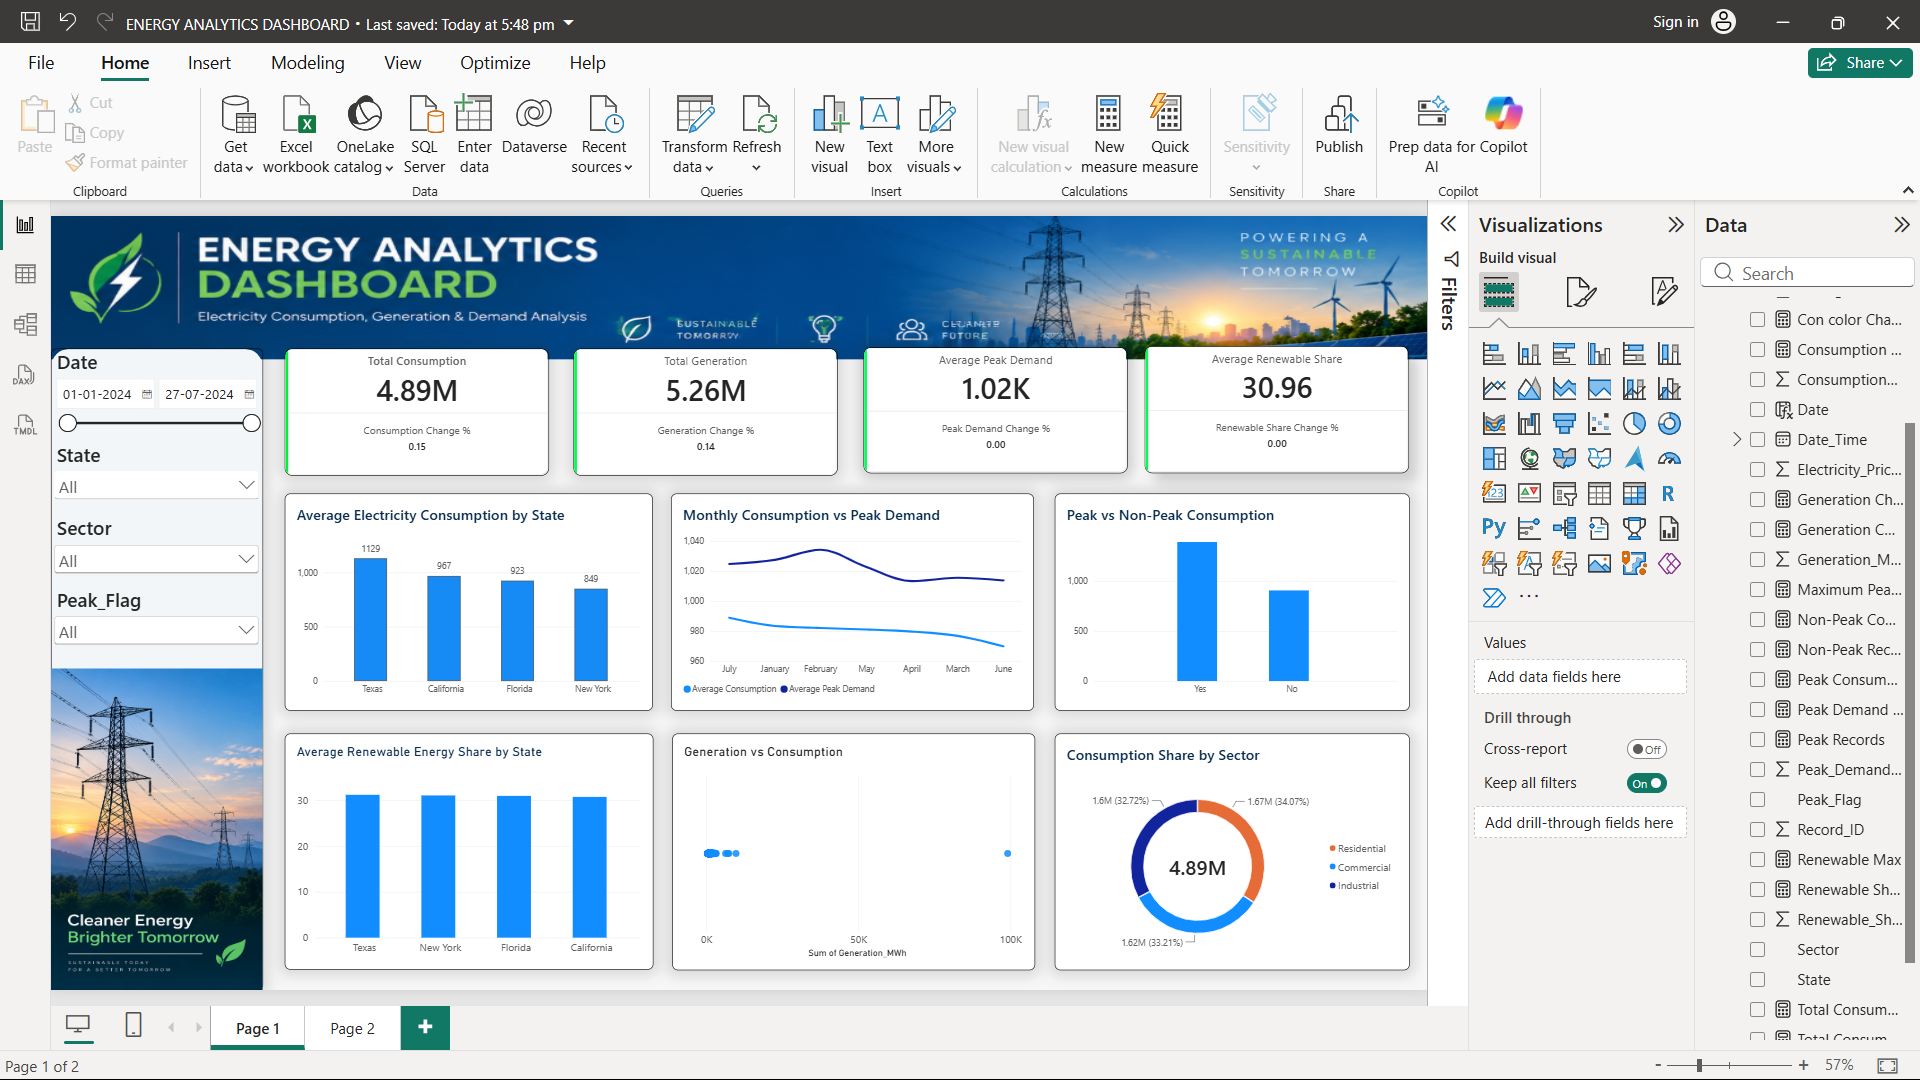

Layout of this report page (visuals, bound fields, positions):
{"tool":"powerbi","page":{"name":"Page 1","canvas":[1920,1080],"ordinal":0},"visuals":[{"type":"image","box":[0,0,1920,199.9],"z":0},{"type":"clusteredColumnChart","title":"Average Electricity Consumption by State","fields":{"Category":["Sheet1.State"],"Y":["Sheet1.Average Consumption"]},"box":[325.8,387.3,513.9,303.5],"z":1000},{"type":"lineChart","title":"Monthly Consumption vs Peak Demand","fields":{"Category":["DateTable.Month"],"Y":["Sheet1.Average Consumption","Sheet1.Average Peak Demand"]},"box":[865.8,387.3,506.4,303.5],"z":2000},{"type":"cardVisual","fields":{"Data":["Sheet1.Total Consumption"]},"box":[325.4,184.4,368.7,177.9],"z":3000},{"type":"cardVisual","fields":{"Data":["Sheet1.Average Renewable Share"]},"box":[1527,182.2,368.7,177.9],"z":4000},{"type":"cardVisual","fields":{"Data":["Sheet1.Average Peak Demand"]},"box":[1133.5,183,368.7,175.7],"z":5000},{"type":"cardVisual","fields":{"Data":["Sheet1.Total Generation"]},"box":[728.8,184.4,368.7,177.9],"z":6000},{"type":"clusteredColumnChart","title":"Peak vs Non-Peak Consumption","fields":{"Category":["Sheet1.Peak_Flag"],"Y":["Sheet1.Average Consumption"]},"box":[1400.2,387.3,495.3,303.5],"z":7000},{"type":"shape","box":[0,184.3,296,895.6],"z":8000},{"type":"image","box":[0,631.2,295,449],"z":9000},{"type":"slicer","fields":{"Values":["Sheet1.Date"]},"box":[0,184.3,296,260.7],"z":10000},{"type":"slicer","fields":{"Values":["Sheet1.State"]},"box":[0,314.5,295.4,100.9],"z":11000},{"type":"slicer","fields":{"Values":["Sheet1.Peak_Flag"]},"box":[0,516.2,295,115],"z":12000},{"type":"clusteredColumnChart","title":"Average Renewable Energy Share by State","fields":{"Category":["Sheet1.State"],"Y":["Sheet1.Average Renewable Share"]},"box":[325.4,722.3,514.1,329.7],"z":13000},{"type":"scatterChart","title":"Generation vs Consumption","fields":{"Category":["Sheet1.Consumption_MWh"],"X":["Sum(Sheet1.Generation_MWh)"]},"box":[866,722,506,330],"z":14000},{"type":"donutChart","title":"Consumption Share by Sector","fields":{"Category":["Sheet1.Sector"],"Y":["Sheet1.Total Consumption"]},"box":[1400,722,495,330],"z":15000},{"type":"slicer","fields":{"Values":["Sheet1.Sector"]},"box":[0,416.5,295,99.8],"z":16000}]}

Visuals, with their boxes on the page's 1920x1080 design canvas (x1, y1, x2, y2). These are canvas units, not pixel positions in the 1920x1080 screenshot, which may show the page scaled, cropped or inside an application window:
image: (left=0, top=0, right=1920, bottom=200)
"Average Electricity Consumption by State" clusteredColumnChart: (left=326, top=387, right=840, bottom=691)
"Monthly Consumption vs Peak Demand" lineChart: (left=866, top=387, right=1372, bottom=691)
cardVisual - Sheet1.Total Consumption: (left=325, top=184, right=694, bottom=362)
cardVisual - Sheet1.Average Renewable Share: (left=1527, top=182, right=1896, bottom=360)
cardVisual - Sheet1.Average Peak Demand: (left=1134, top=183, right=1502, bottom=359)
cardVisual - Sheet1.Total Generation: (left=729, top=184, right=1098, bottom=362)
"Peak vs Non-Peak Consumption" clusteredColumnChart: (left=1400, top=387, right=1896, bottom=691)
shape: (left=0, top=184, right=296, bottom=1080)
image: (left=0, top=631, right=295, bottom=1080)
slicer - Sheet1.Date: (left=0, top=184, right=296, bottom=445)
slicer - Sheet1.State: (left=0, top=314, right=295, bottom=415)
slicer - Sheet1.Peak_Flag: (left=0, top=516, right=295, bottom=631)
"Average Renewable Energy Share by State" clusteredColumnChart: (left=325, top=722, right=840, bottom=1052)
"Generation vs Consumption" scatterChart: (left=866, top=722, right=1372, bottom=1052)
"Consumption Share by Sector" donutChart: (left=1400, top=722, right=1895, bottom=1052)
slicer - Sheet1.Sector: (left=0, top=416, right=295, bottom=516)
